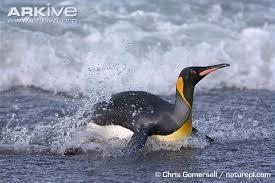king: (67, 49, 235, 166)
